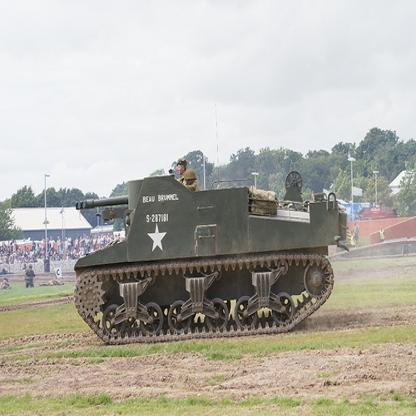Tank: (66, 165, 351, 348)
